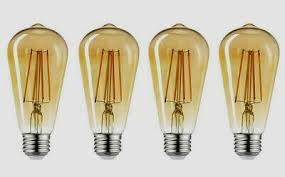bulb: (144, 20, 213, 151), (73, 21, 142, 151), (2, 19, 70, 149), (216, 19, 282, 152)
